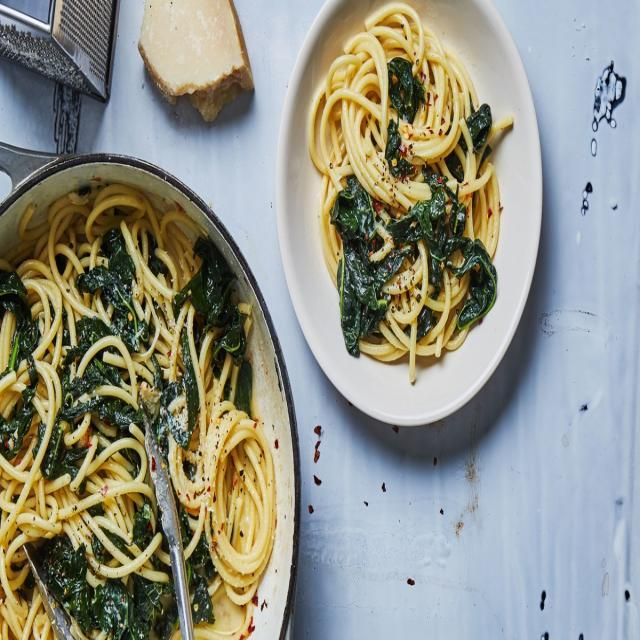Oil pasta: (10, 194, 285, 640), (319, 13, 524, 385)
